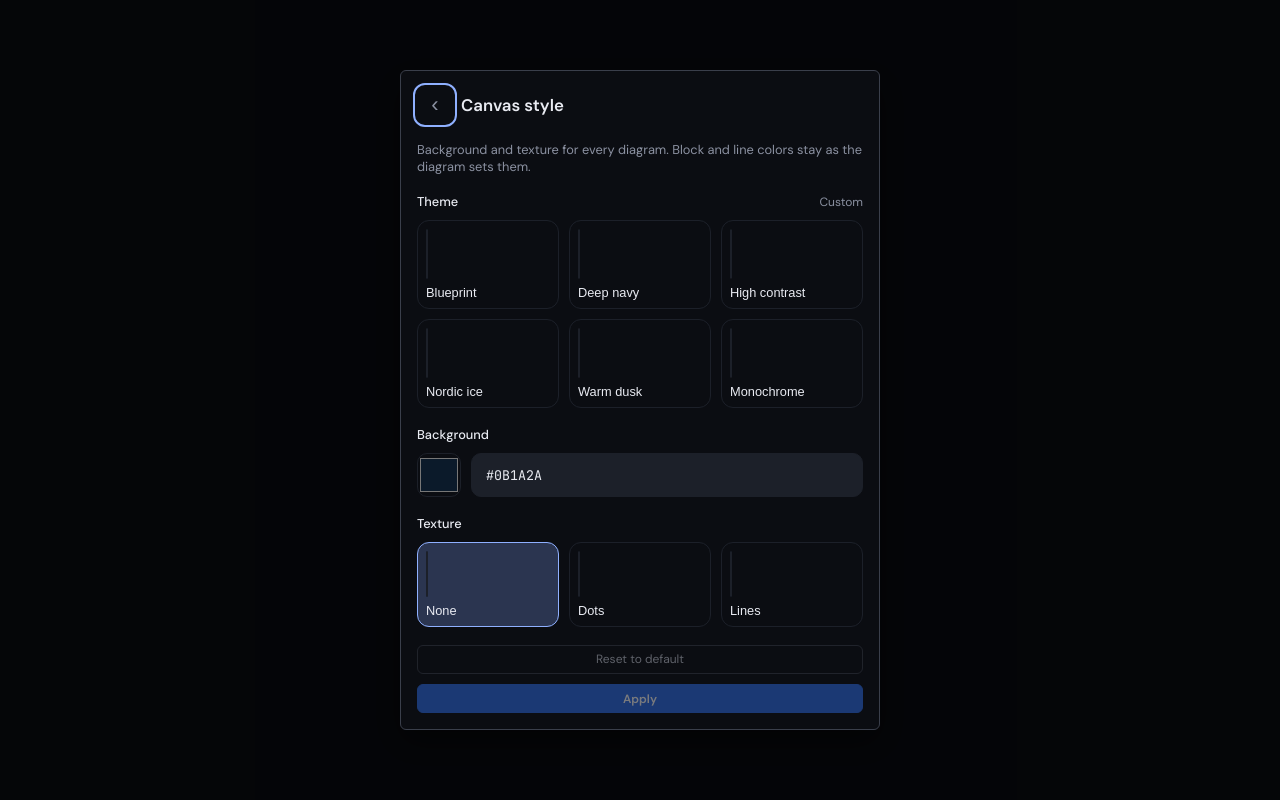
it: CanvasStylePanel › warns on a light background
Replace the text in the field with test id "canvas-style-bg-hex" with "#ffffff": x=667, y=475 x1=471 y1=453 x2=863 y2=497
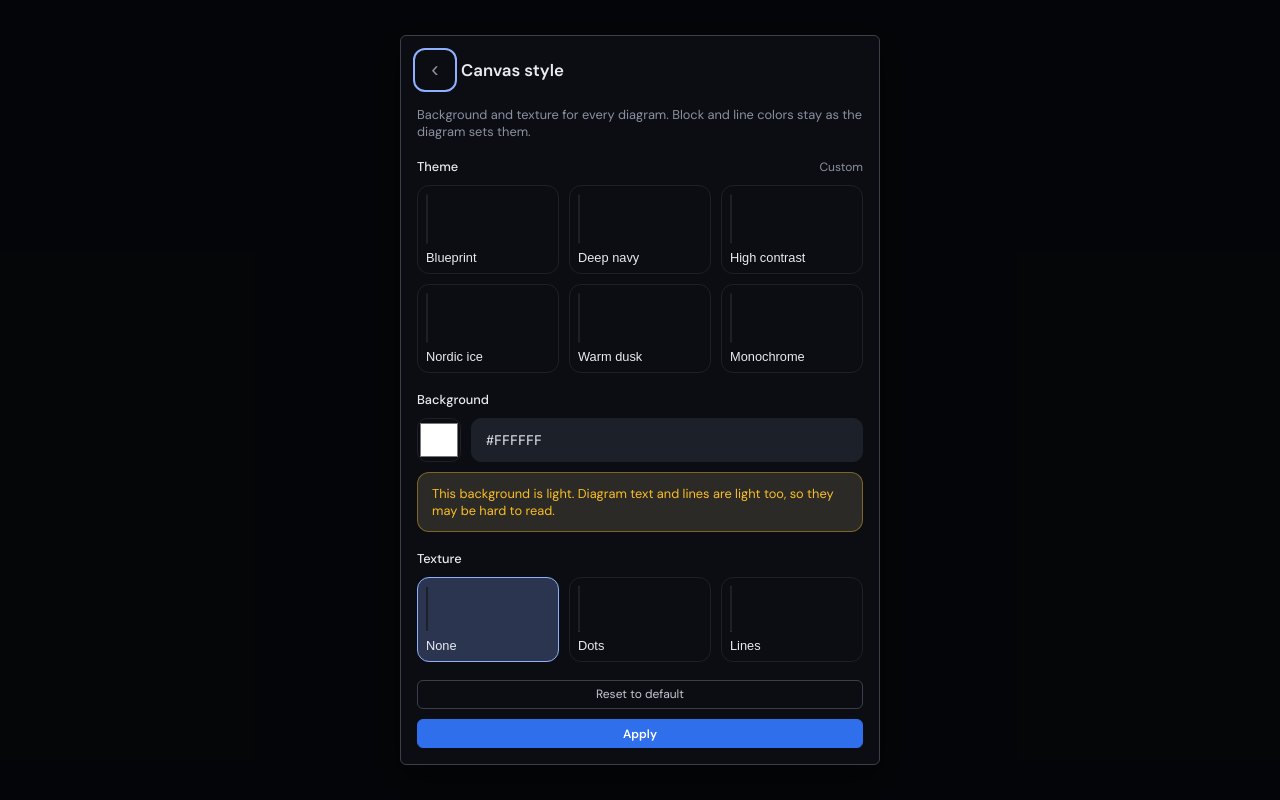
Now the message with test id "canvas-style-light-warning" is shown, box x1=417 y1=472 x2=863 y2=532
